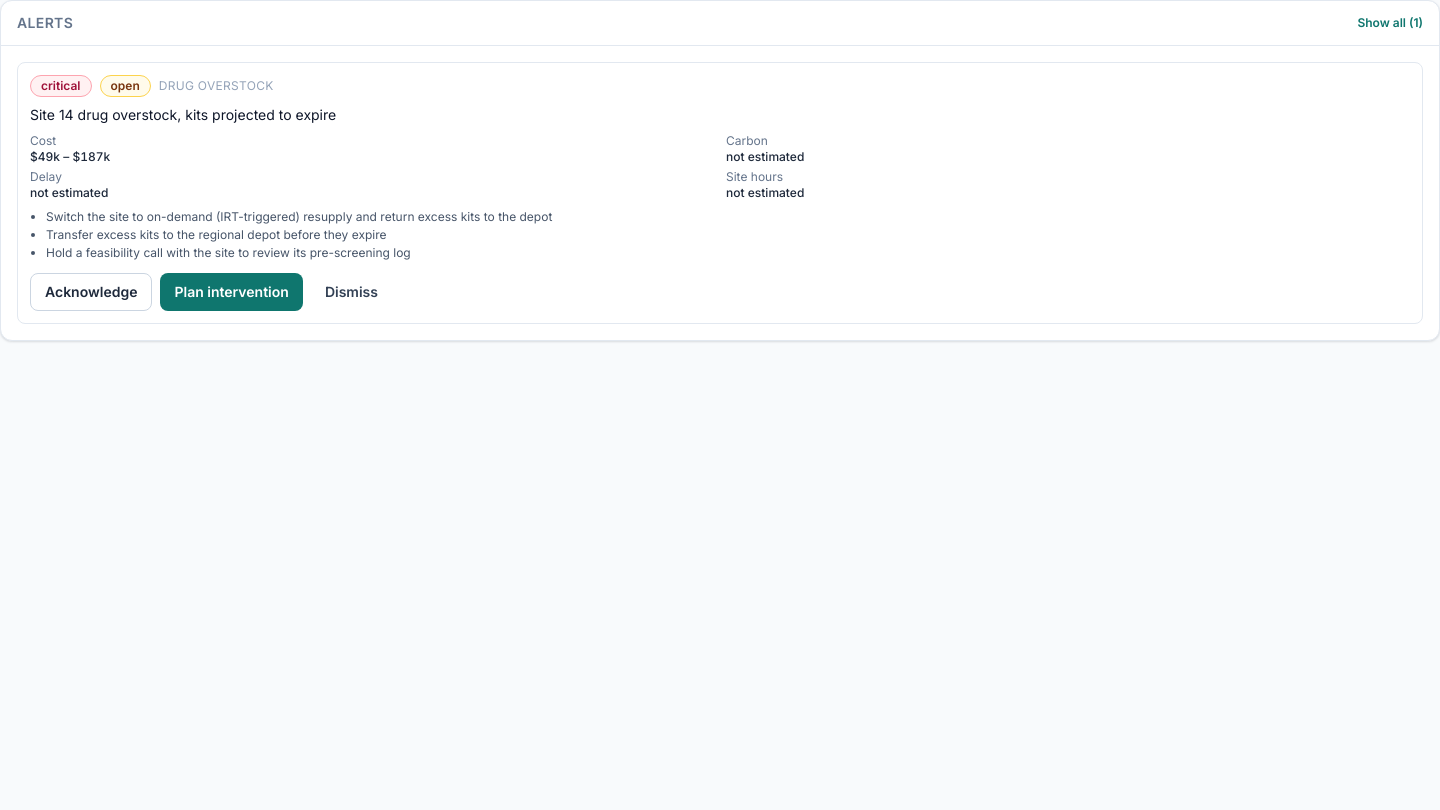
Test: action options in the plan dialog › still plans an action when no prediction is available
The image size is (1440, 810).
Click the button "Plan intervention" at (232, 292), box [160,273,303,311]
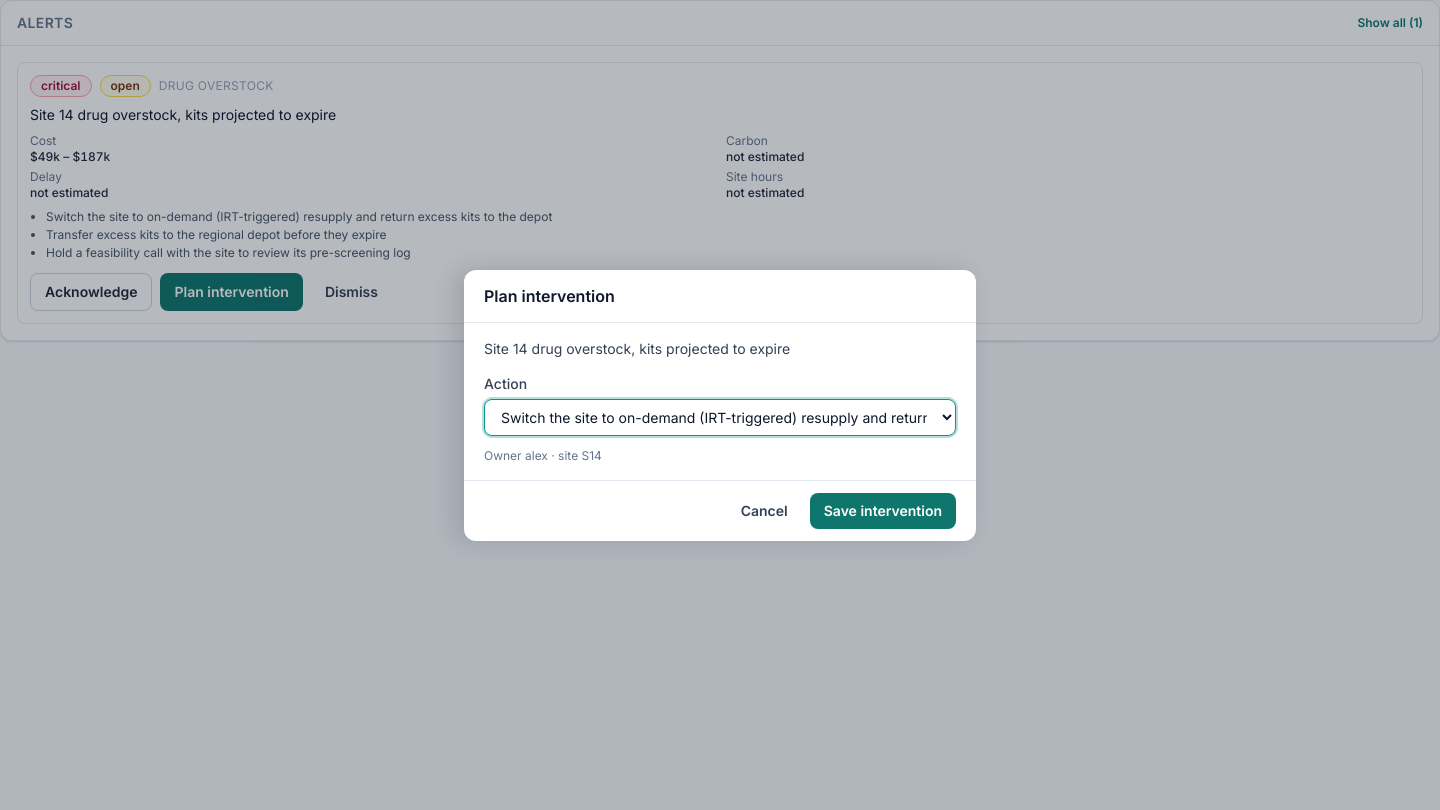
Expected: the dropdown shows "Switch the site to on-demand (IRT-triggered) resupply and return excess kits to ", [484,398,956,436]
